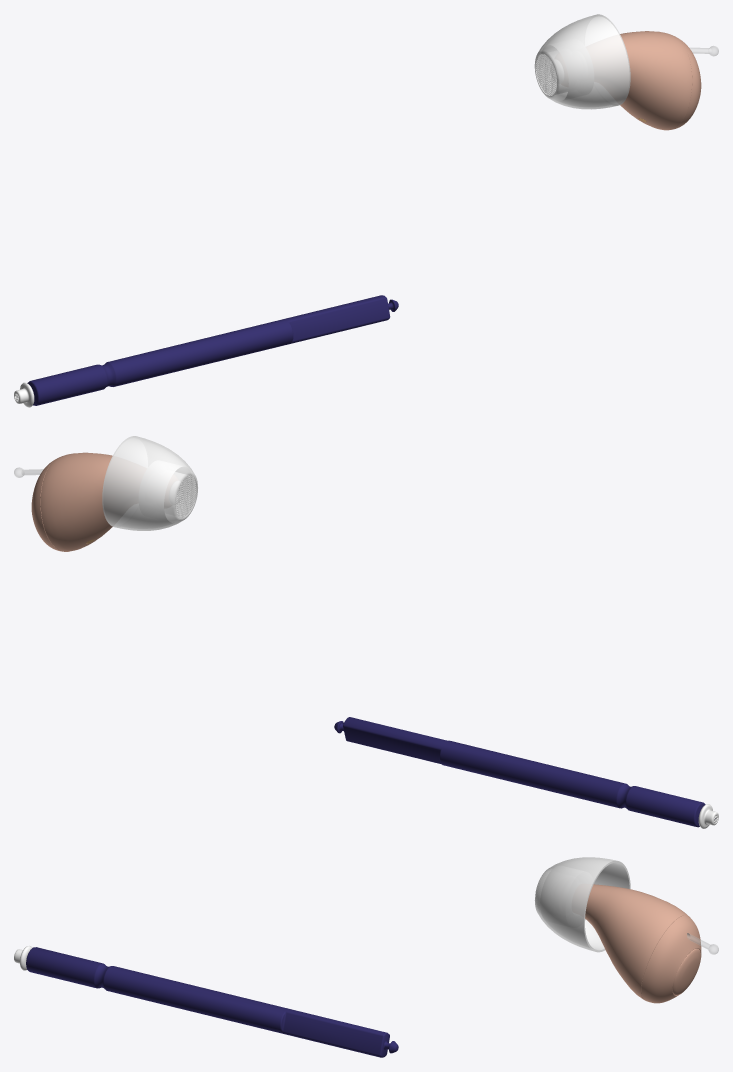
Rendered from Atom 2 (WaxGuardChange2).glb.
3 views of the same model, one above another, from view 1: azimuth 30°, elevation 25°; view 2: azimuth 150°, elevation 25°; view 3: azimuth 330°, elevation 25° (orthographic).
Parts seen in each view (by area): view 1: Stapici.001, Audien_ALL.007, Atom 2_Body.001, Atom 2_Lid.005; view 2: Stapici.001, Audien_ALL.007, Atom 2_Body.001, Atom 2_Lid.005; view 3: Stapici.001, Atom 2_Body.001, Audien_ALL.007, Atom 2_Lid.005, Atom 2_Lid.006.
Part boxes in pixels (x1=…): Stapici.001: x1=27, y1=295, x2=398, y2=405; Audien_ALL.007: x1=534, y1=14, x2=630, y2=109; Atom 2_Body.001: x1=620, y1=31, x2=692, y2=130; Atom 2_Lid.005: x1=670, y1=38, x2=701, y2=129; Stapici.001: x1=334, y1=717, x2=715, y2=827; Audien_ALL.007: x1=102, y1=436, x2=197, y2=530; Atom 2_Body.001: x1=40, y1=452, x2=112, y2=551; Atom 2_Lid.005: x1=31, y1=460, x2=64, y2=551; Stapici.001: x1=26, y1=947, x2=398, y2=1057; Atom 2_Body.001: x1=585, y1=884, x2=687, y2=999; Audien_ALL.007: x1=534, y1=857, x2=630, y2=952; Atom 2_Lid.005: x1=641, y1=915, x2=701, y2=1003; Atom 2_Lid.006: x1=672, y1=948, x2=700, y2=995.
Bounding box in the file's own units: 4.15 × 1.4 × 0.4829.
